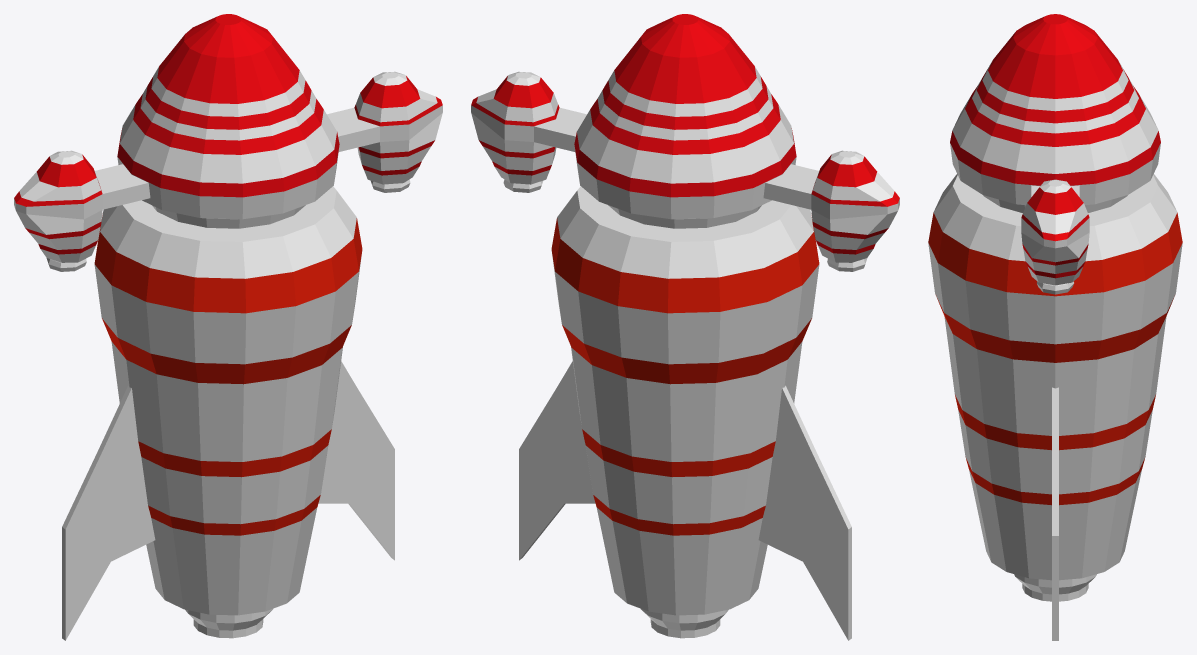
The model's file is Rocketlvl4.fbx.
The picture shows the model from 3 angles, left to right: view 1: azimuth 30°, elevation 25°; view 2: azimuth 150°, elevation 25°; view 3: azimuth 270°, elevation 25°; orthographic projection. The views are drawn at different scales.
Visible parts, largest first — view 1: BasicEngine, HadEngine, Wings, DoubleEngine; view 2: BasicEngine, HadEngine, Wings, DoubleEngine; view 3: BasicEngine, HadEngine, DoubleEngine, Wings.
Boxes of the visible parts, left/top/right/bottom form: BasicEngine: left=94, top=186, right=362, bottom=638; HadEngine: left=117, top=14, right=339, bottom=228; Wings: left=62, top=361, right=394, bottom=640; DoubleEngine: left=14, top=71, right=442, bottom=271; BasicEngine: left=551, top=186, right=819, bottom=638; HadEngine: left=574, top=14, right=796, bottom=228; Wings: left=519, top=361, right=851, bottom=640; DoubleEngine: left=471, top=71, right=899, bottom=271; BasicEngine: left=928, top=174, right=1182, bottom=601; HadEngine: left=950, top=14, right=1160, bottom=212; DoubleEngine: left=1021, top=179, right=1089, bottom=294; Wings: left=1052, top=387, right=1058, bottom=640.
Size of the model in its own units: 450 by 611 by 248.
